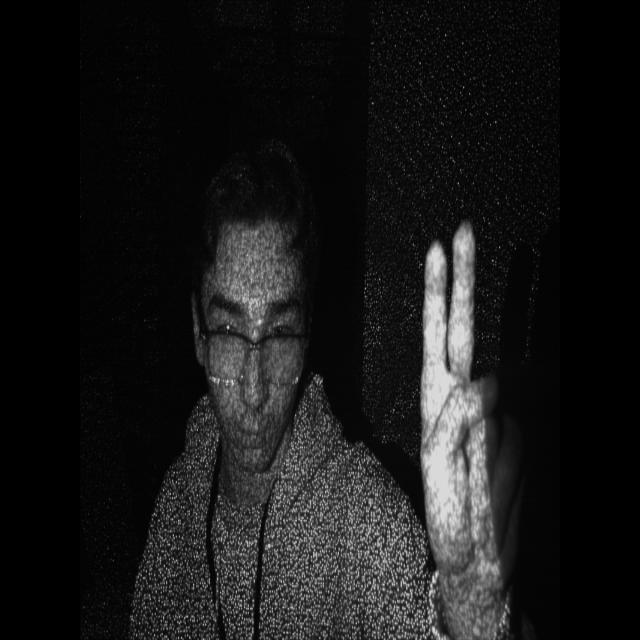U: (409, 204, 539, 589)
